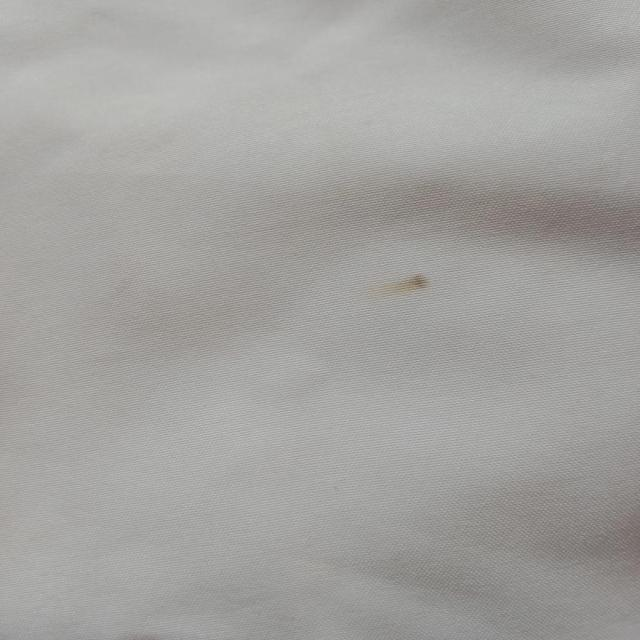stain: (358, 257, 442, 302)
